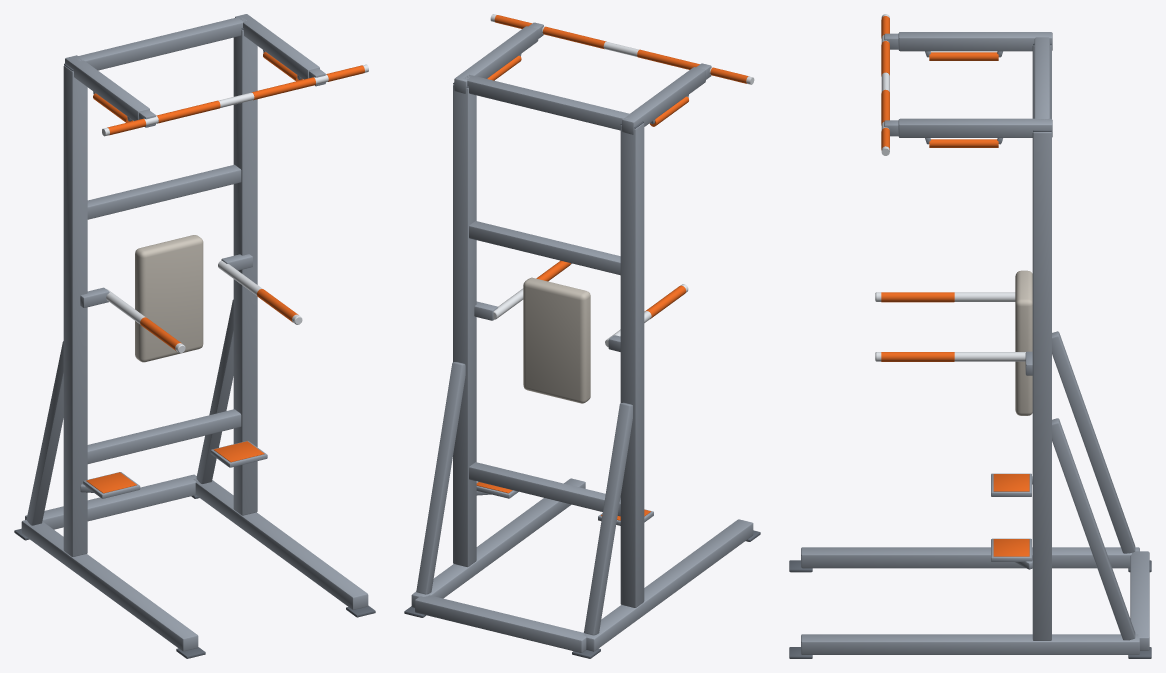
The model's file is dip-pullup-station.glb.
The picture shows the model from 3 angles, left to right: view 1: azimuth 30°, elevation 25°; view 2: azimuth 150°, elevation 25°; view 3: azimuth 270°, elevation 25°; orthographic projection. The views are drawn at different scales.
Parts seen in each view (by area): view 1: frame.frame, frame.pad, pullup_bar.grip, frame.grip, frame.tread, frame.chrome, pullup_bar.chrome, frame.rubber; view 2: frame.frame, frame.pad, pullup_bar.grip, frame.grip, frame.chrome; view 3: frame.frame, frame.grip, frame.pad, frame.chrome, frame.tread, pullup_bar.grip, frame.rubber.
Boxes of the visible parts, box(x1,y1,x2,y2) form: frame.frame: box(21, 14, 368, 651); frame.pad: box(135, 235, 203, 362); pullup_bar.grip: box(107, 65, 364, 135); frame.grip: box(93, 52, 302, 351); frame.tread: box(86, 441, 264, 493); frame.chrome: box(106, 260, 302, 353); pullup_bar.chrome: box(102, 64, 368, 136); frame.rubber: box(14, 28, 375, 658); frame.frame: box(411, 26, 753, 652); frame.pad: box(523, 277, 590, 403); pullup_bar.grip: box(494, 15, 748, 83); frame.grip: box(487, 55, 688, 318); frame.chrome: box(493, 263, 688, 347); frame.frame: box(801, 32, 1149, 654); frame.grip: box(881, 52, 998, 361); frame.pad: box(1015, 270, 1032, 415); frame.chrome: box(875, 292, 1025, 361); frame.tread: box(993, 474, 1029, 556); pullup_bar.grip: box(881, 16, 889, 149); frame.rubber: box(789, 43, 1151, 658).
Bounding box in the file's own units: 1.24 × 2.29 × 1.41.
